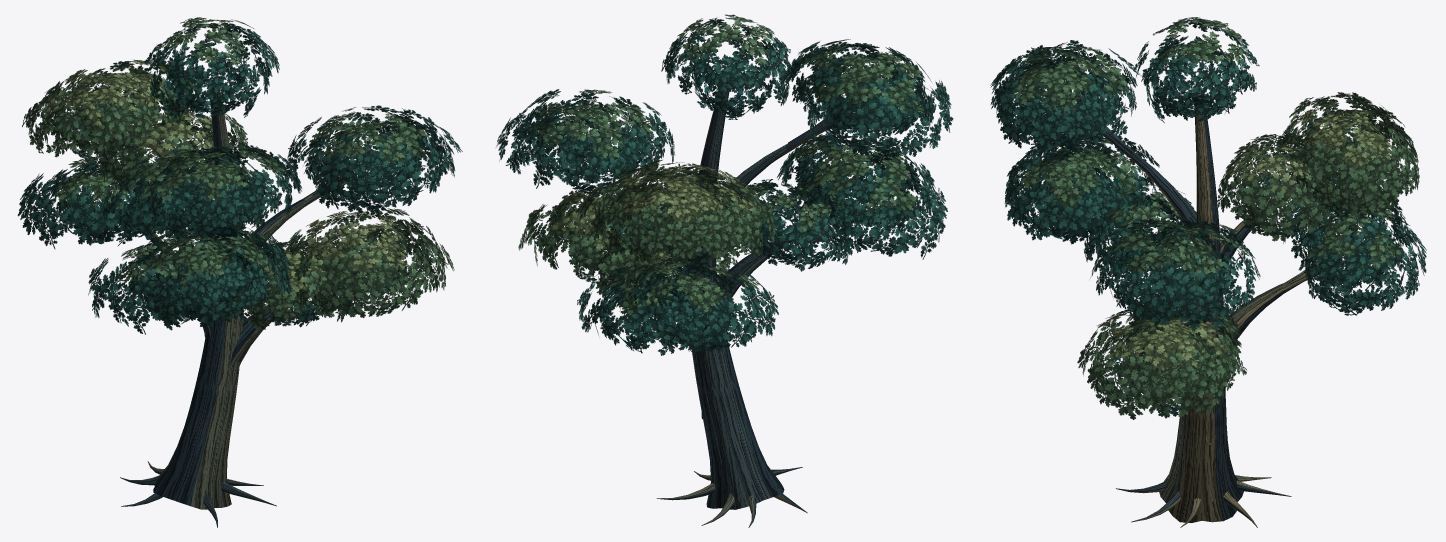
File: canopy_oak.glb
3 views of the same model, side by side, from view 1: azimuth 30°, elevation 25°; view 2: azimuth 150°, elevation 25°; view 3: azimuth 270°, elevation 25° (orthographic). The views are drawn at different scales.
Visible parts, largest first — view 1: canopy_oak; view 2: canopy_oak; view 3: canopy_oak.
Part boxes in pixels (x1,y1,x2,y2): canopy_oak: [17, 17, 462, 527]; canopy_oak: [496, 14, 953, 527]; canopy_oak: [990, 17, 1426, 527].
Bounding box in the file's own units: 9.85 × 11.31 × 9.23.
Materials: 2 (2 with a texture image).
